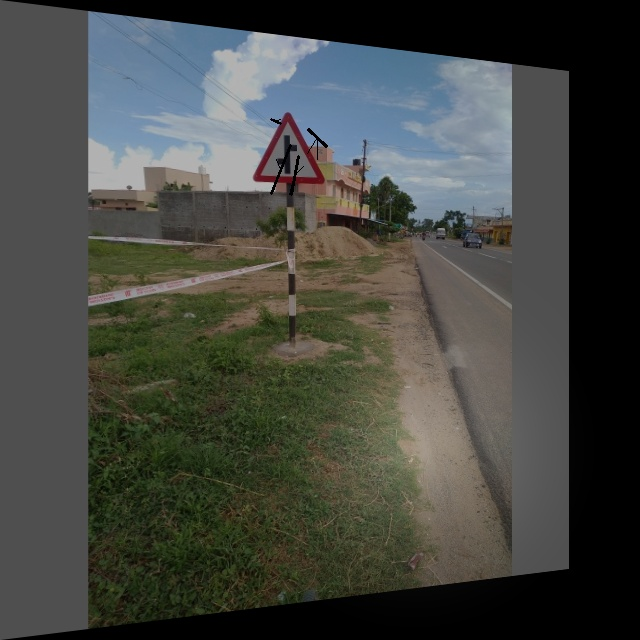Staggered_Intersection: (250, 105, 335, 194)
